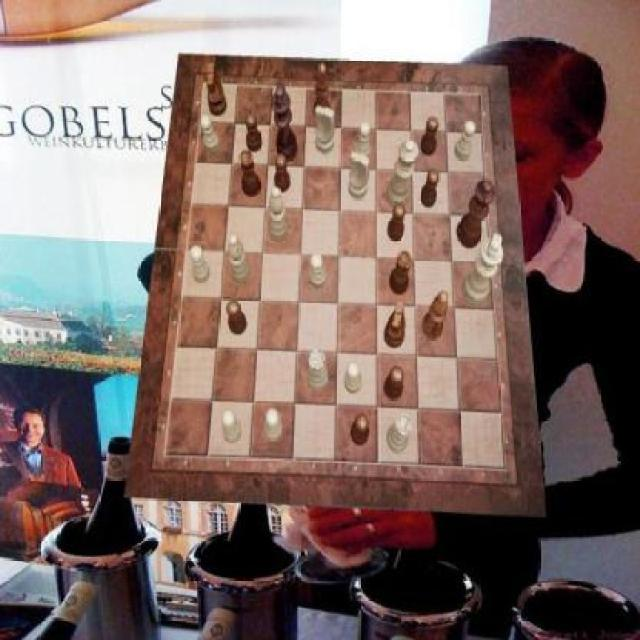bishop: (422, 291, 448, 340), (314, 63, 331, 122)
black-bishop: (272, 83, 298, 162)
black-king: (208, 63, 228, 117), (385, 300, 407, 348)
black-knight: (420, 169, 440, 208), (420, 117, 439, 155), (228, 300, 248, 335), (384, 366, 404, 400), (388, 203, 405, 241), (246, 114, 262, 154), (351, 414, 370, 446), (276, 154, 292, 192)
black-pawn: (457, 180, 495, 249)
black-queen: (238, 151, 261, 198), (390, 251, 412, 296)
black-rook: (268, 188, 288, 242), (228, 234, 250, 283)
white-bishop: (461, 234, 504, 308)
white-king: (348, 152, 370, 200), (316, 106, 336, 154)
white-knight: (454, 120, 476, 162), (200, 115, 220, 154), (191, 245, 211, 282), (223, 409, 243, 444), (354, 122, 371, 163), (309, 252, 326, 288), (265, 408, 282, 442), (345, 361, 362, 394)
white-pawn: (386, 140, 419, 209)
white-queen: (388, 414, 412, 454), (306, 351, 329, 391)
